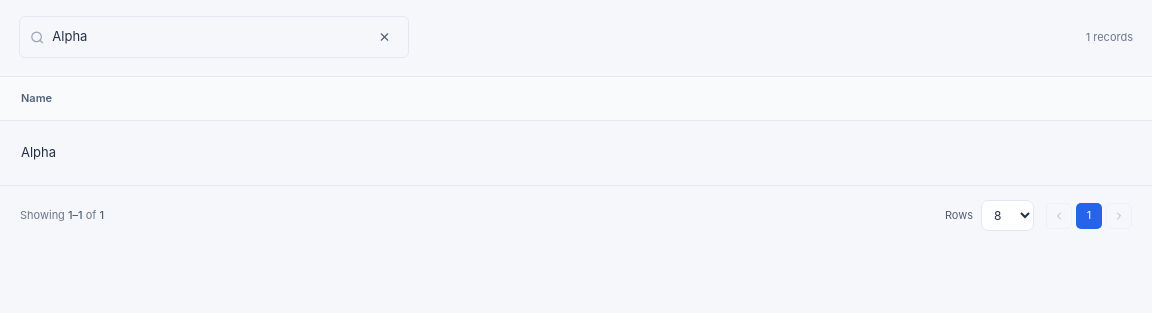
Test case: a search opened from another screen can be edited and cleared in the table
The image size is (1152, 313).
Expected: the text "Beta" is not shown
Clear the field at (208, 37), box [52,20,363,54]
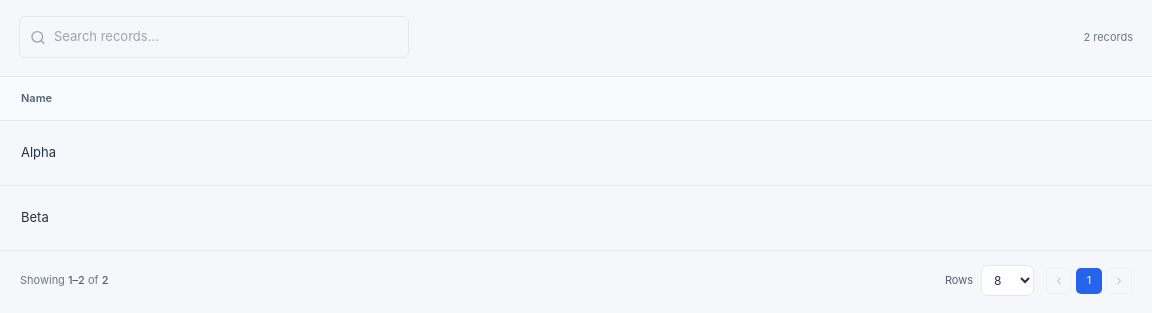
Type "Beta" into the field.
click(226, 37); type("Beta")  # box [54,20,398,54]
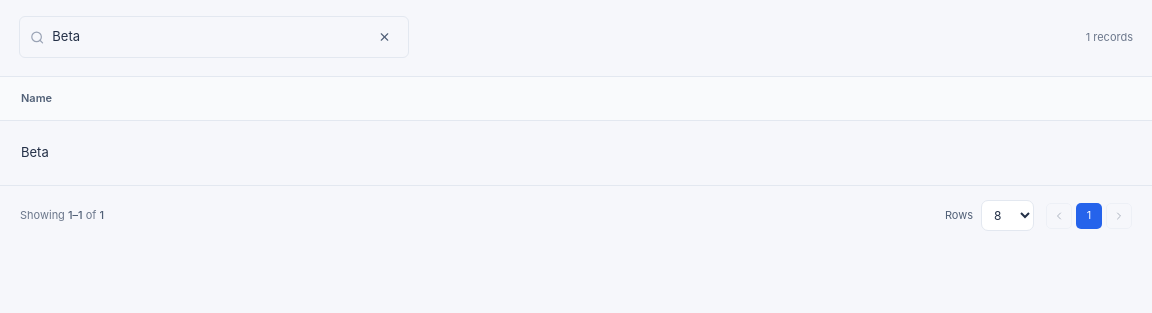
Now the text "Beta" is shown, box [0,120,1151,185]
Now the text "Alpha" is gone
Click the button named "Clear search".
click(384, 37)  # box [371,24,398,50]
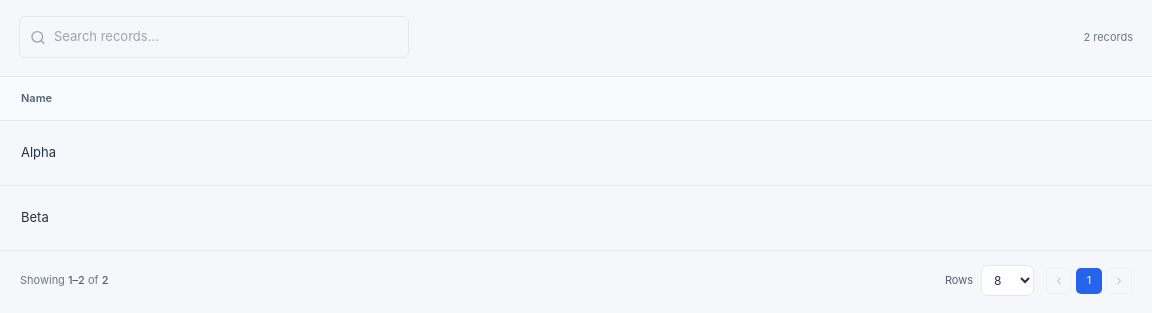
Now the text "Beta" is shown, box [0,185,1151,250]
Now the text "Alpha" is shown, box [0,120,1151,185]
